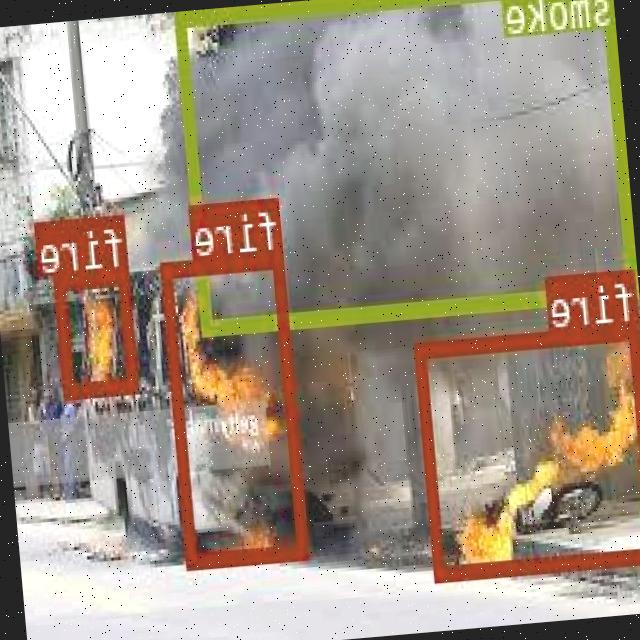fire: (416, 320, 640, 578), (163, 248, 310, 566), (56, 268, 140, 397)
smoke: (175, 0, 638, 330)
